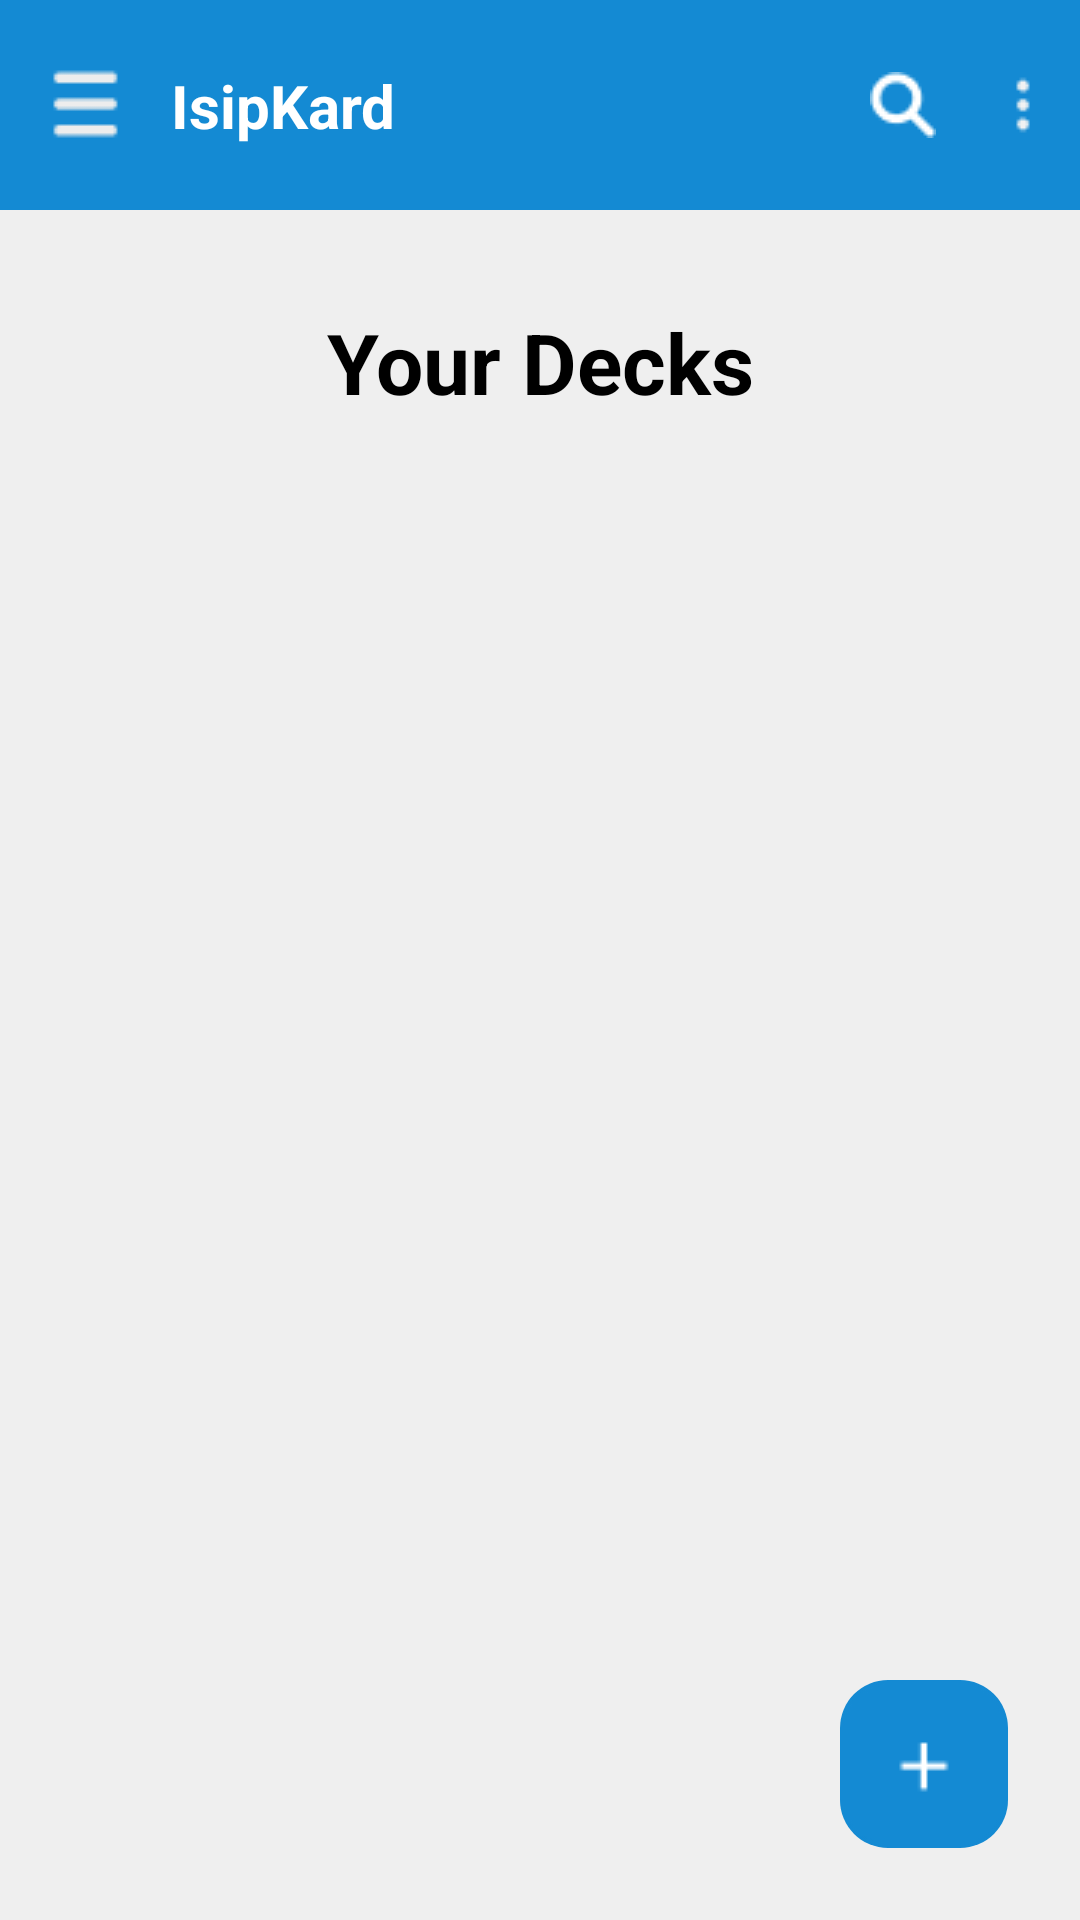

Locate icon controls on the screen. Image size 1080 x 1920, boxes as box(x1, y1, x2, y2).
add: box(840, 1680, 1008, 1848)
ellipsis: box(1016, 78, 1030, 132)
hamburger menu: box(53, 70, 118, 138)
search: box(870, 72, 936, 138)
